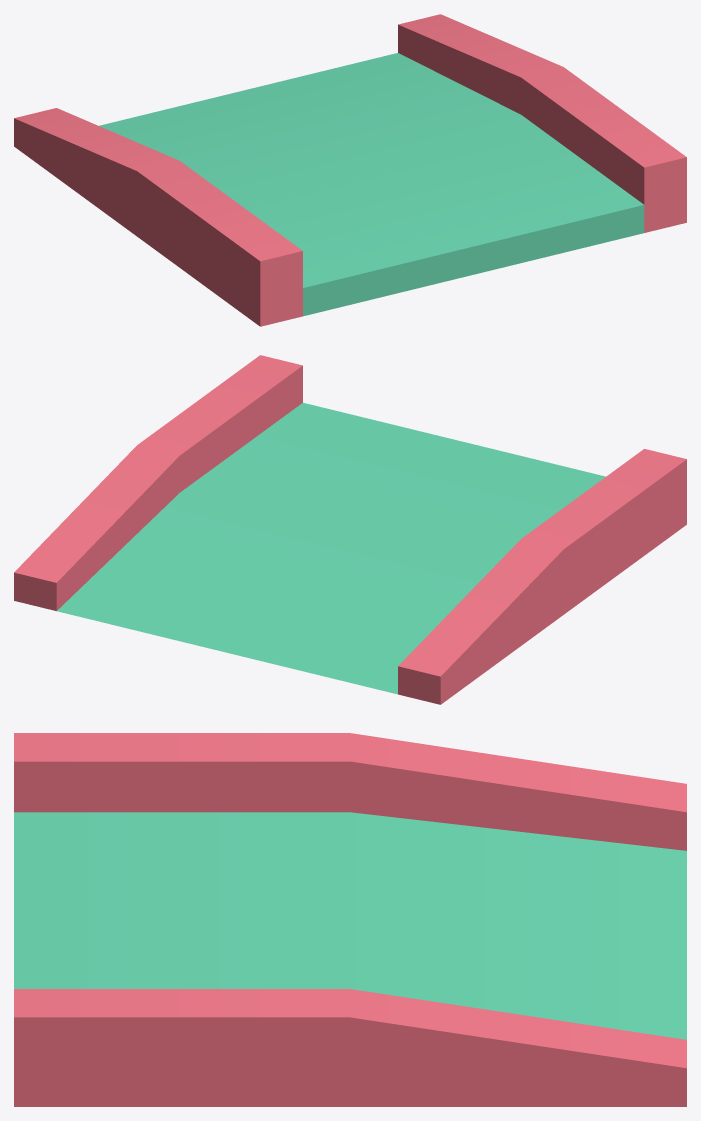
The model's file is start.glb.
3 renders of one model, top to bottom at view 1: azimuth 30°, elevation 25°; view 2: azimuth 150°, elevation 25°; view 3: azimuth 270°, elevation 25°, orthographic. The views are drawn at different scales.
Visible parts, largest first — view 1: start; view 2: start; view 3: start.
Part boxes in pixels (x1,y1,x2,y2): start: (14, 14, 686, 326); start: (14, 355, 686, 704); start: (14, 733, 686, 1106).
Bounding box in the file's own units: 0.9999 × 0.1466 × 0.9999.
